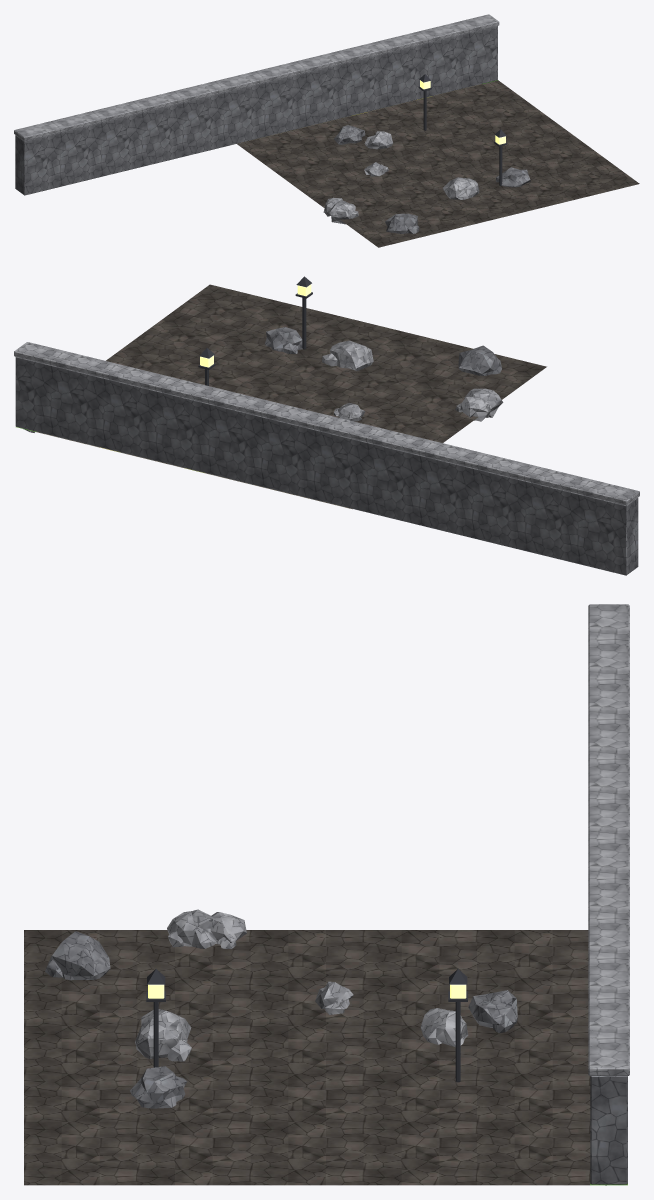
Rendered from chunk_7_18.glb.
The picture shows the model from 3 angles, top to bottom: view 1: azimuth 30°, elevation 25°; view 2: azimuth 150°, elevation 25°; view 3: azimuth 270°, elevation 25°; orthographic projection. The views are drawn at different scales.
Parts seen in each view (by area): view 1: chunk_7_18; view 2: chunk_7_18; view 3: chunk_7_18.
Part boxes in pixels (left/top/right/bottom): chunk_7_18: left=14, top=14, right=639, bottom=247; chunk_7_18: left=14, top=276, right=639, bottom=575; chunk_7_18: left=24, top=604, right=629, bottom=1185.
Size of the model in its own units: 29.1 by 3.97 by 16.05.
Materials: 10 (8 with a texture image).
